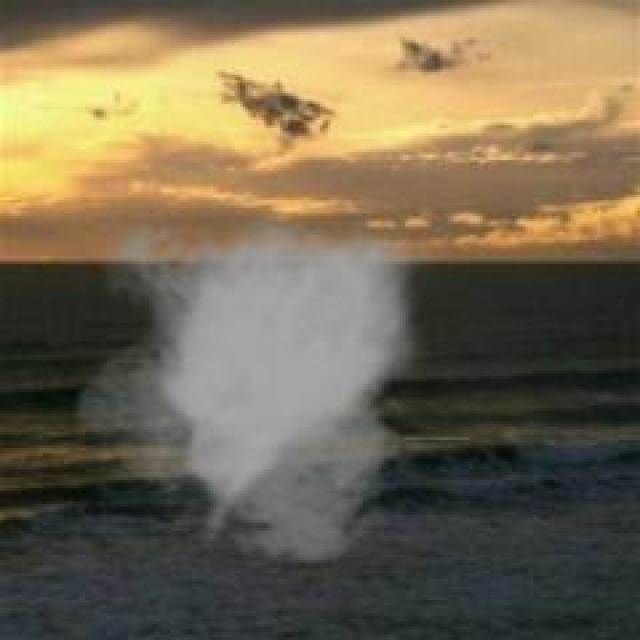Smoke: (72, 185, 400, 572)
